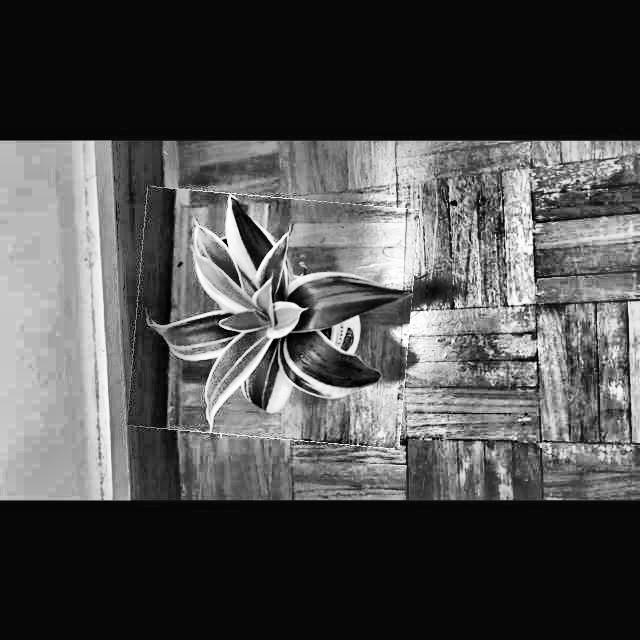plants: (132, 191, 415, 443)
